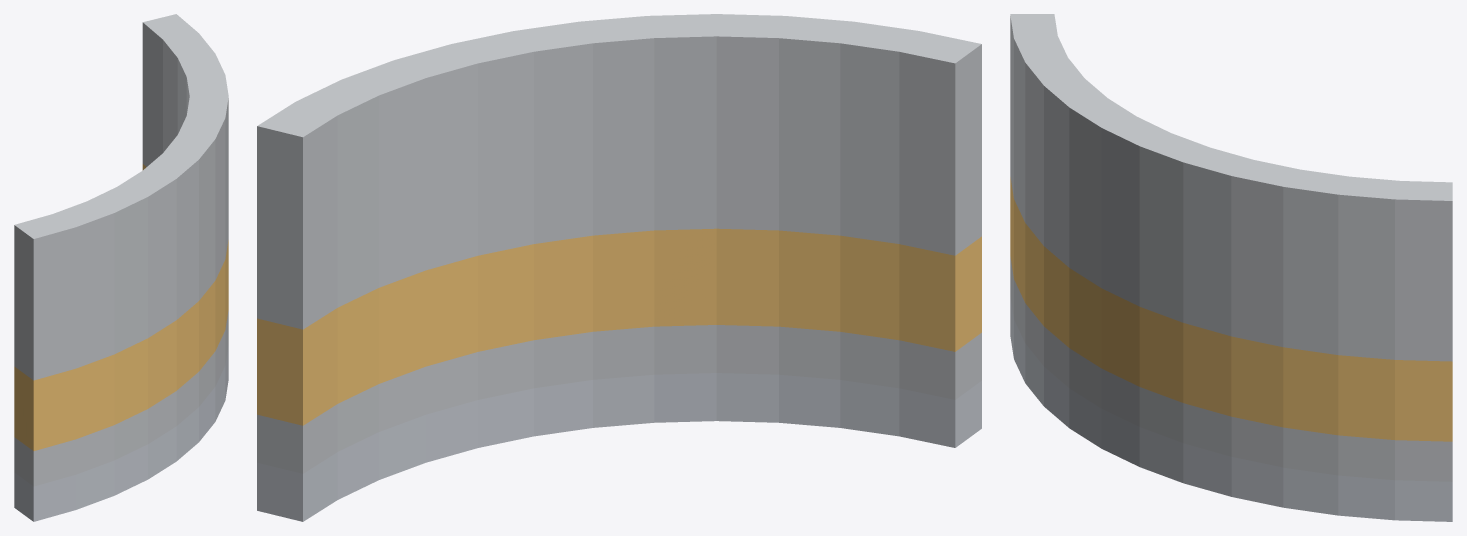
Rendered from corridor_wallCorner.glb.
3 renders of one model, left to right at view 1: azimuth 30°, elevation 25°; view 2: azimuth 150°, elevation 25°; view 3: azimuth 270°, elevation 25°, orthographic. The views are drawn at different scales.
Visible parts, largest first — view 1: corridor_wallCorner; view 2: corridor_wallCorner; view 3: corridor_wallCorner.
Boxes of the visible parts, left/top/right/bottom form: corridor_wallCorner: left=14, top=14, right=228, bottom=521; corridor_wallCorner: left=257, top=14, right=981, bottom=521; corridor_wallCorner: left=1010, top=14, right=1452, bottom=521.
Bounding box in the file's own units: 1 × 0.8 × 1.
